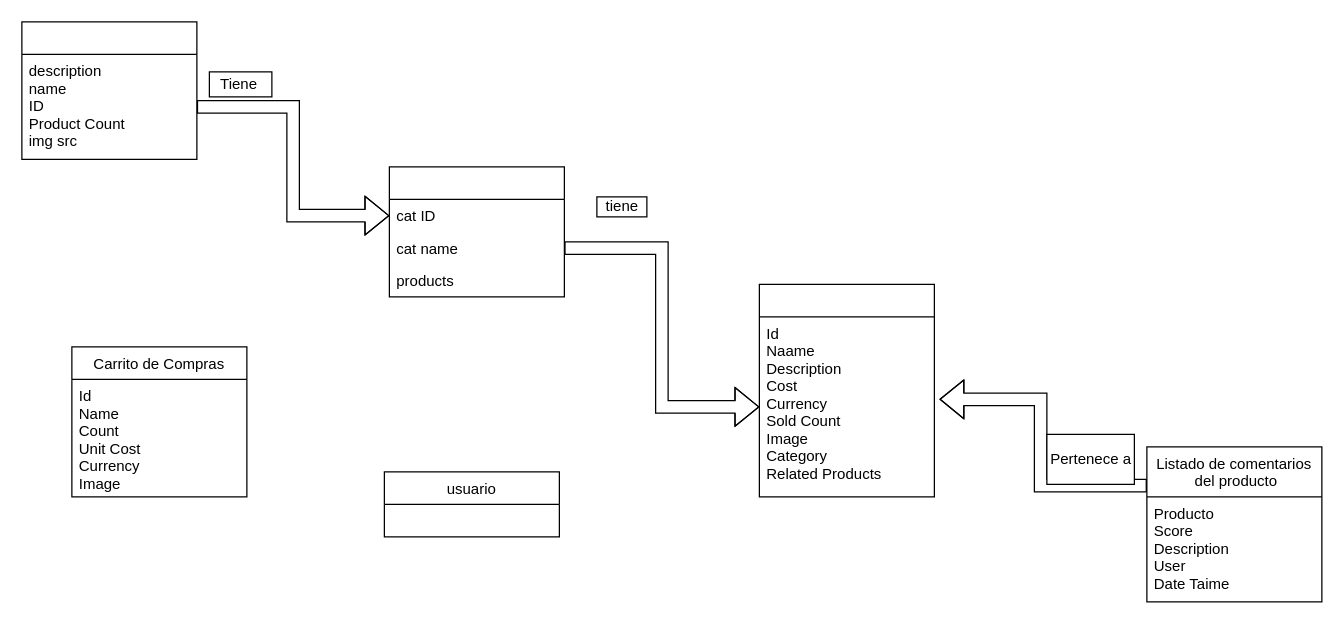
This 1344x628 diagram has some shape labels left out. Here are the shapes that lost their labels. From the top down, the box of each, then its label:
(21, 21, 197, 159): Listado de categorias
(388, 166, 564, 297): listado deproductos
(758, 283, 934, 497): productos
